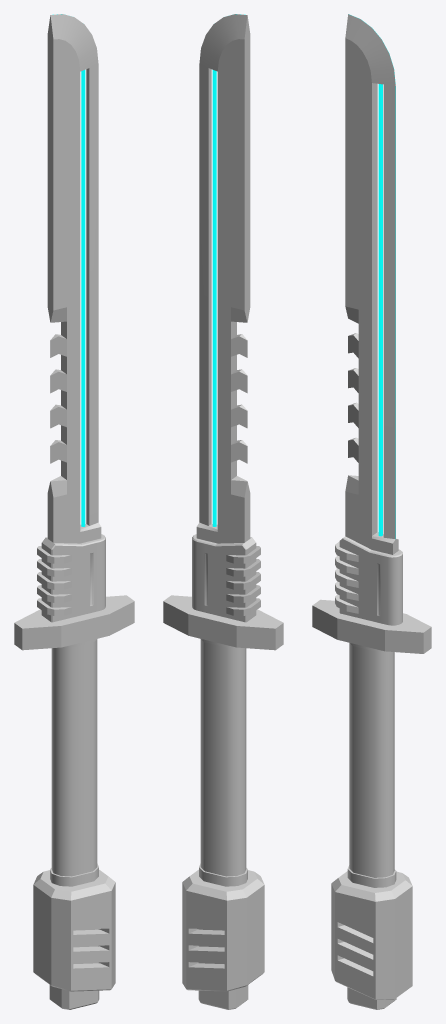
File: sword.glb
3 renders of one model, left to right at view 1: azimuth 30°, elevation 25°; view 2: azimuth 150°, elevation 25°; view 3: azimuth 330°, elevation 25°, orthographic.
Visible parts, largest first — view 1: Sword_XR-8; view 2: Sword_XR-8; view 3: Sword_XR-8.
Boxes of the visible parts, box(x1,y1,x2,y2) form: Sword_XR-8: box(14, 14, 134, 1009); Sword_XR-8: box(163, 14, 283, 1009); Sword_XR-8: box(312, 14, 431, 1009).
Bounding box in the file's own units: 0.178 × 1.5 × 0.0923.
